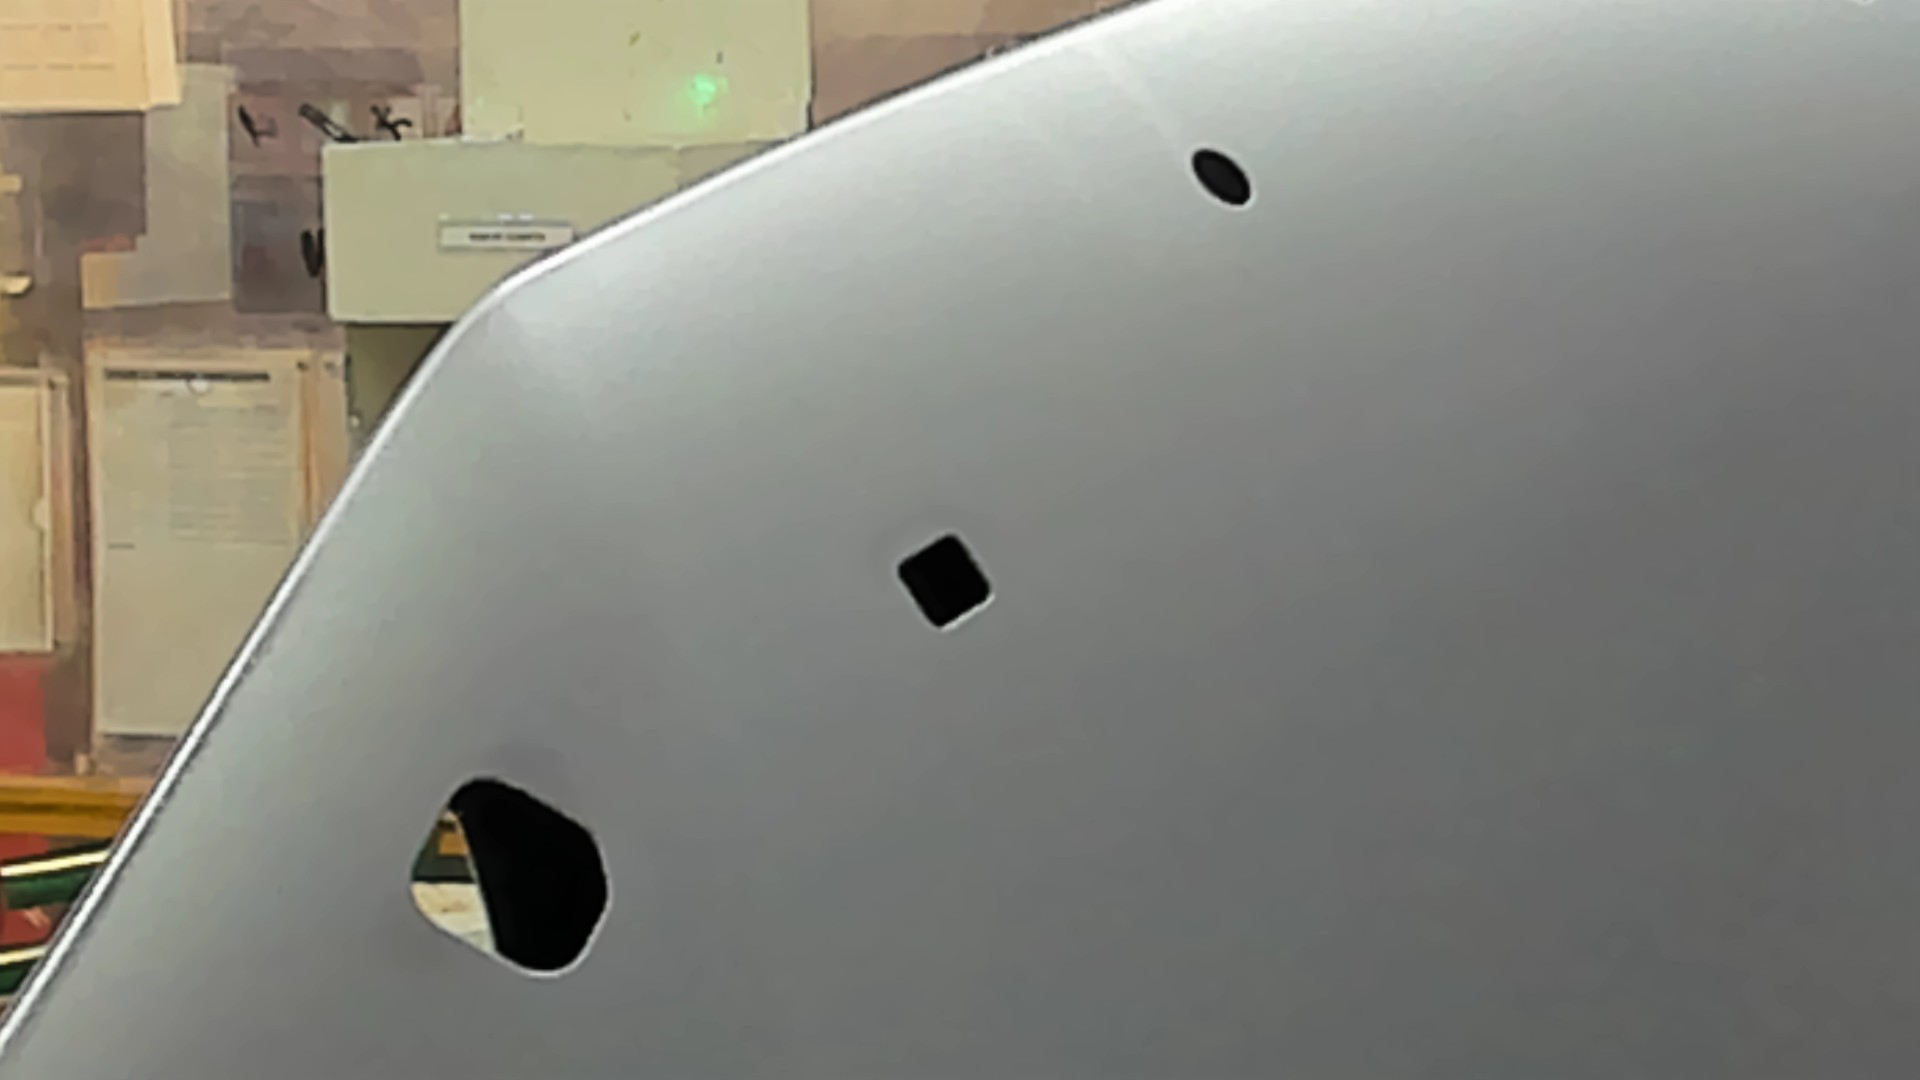chico: (1179, 136, 1270, 218)
grande: (361, 754, 641, 1000)
mediano: (878, 516, 1015, 645)
